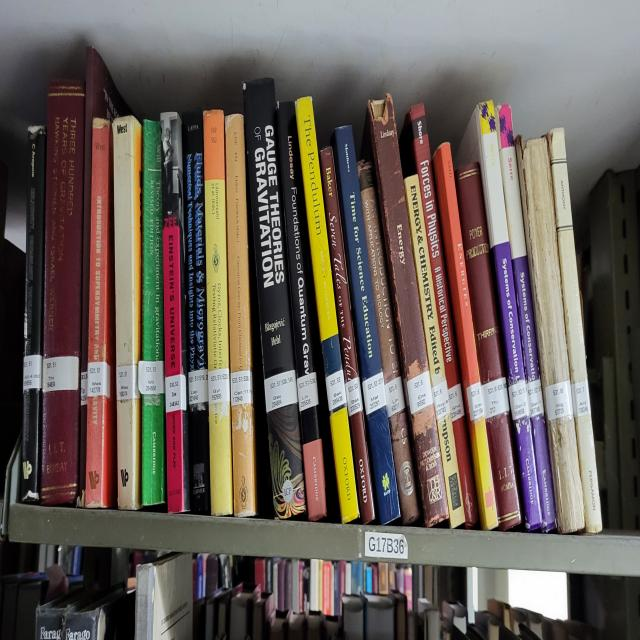Book: (362, 95, 449, 528), (455, 100, 542, 530), (400, 103, 479, 528), (515, 138, 585, 533), (244, 78, 306, 519), (331, 127, 400, 522), (295, 97, 359, 522), (495, 103, 556, 530), (434, 143, 498, 530), (455, 162, 521, 530), (79, 46, 129, 506), (358, 162, 420, 525), (548, 130, 602, 533), (404, 173, 465, 528), (320, 146, 375, 522), (278, 103, 326, 519), (40, 78, 85, 506), (85, 119, 118, 509), (225, 114, 256, 517), (160, 111, 190, 511), (112, 116, 142, 509), (182, 108, 210, 514), (204, 111, 232, 514), (139, 119, 166, 506), (21, 127, 46, 503)
Label: (265, 371, 298, 414), (42, 357, 79, 392), (481, 376, 510, 419), (406, 371, 432, 414), (545, 379, 572, 419), (362, 371, 386, 414), (139, 360, 165, 395), (116, 363, 140, 400), (88, 360, 111, 398), (165, 373, 186, 414), (326, 368, 346, 411), (298, 371, 319, 411), (385, 376, 405, 417), (509, 379, 529, 419), (230, 371, 252, 406), (22, 354, 42, 392), (189, 368, 209, 406), (571, 379, 591, 417), (466, 381, 484, 422), (209, 368, 230, 403), (432, 379, 450, 419), (345, 376, 362, 417), (526, 379, 544, 417), (449, 384, 464, 422), (80, 371, 88, 406)
